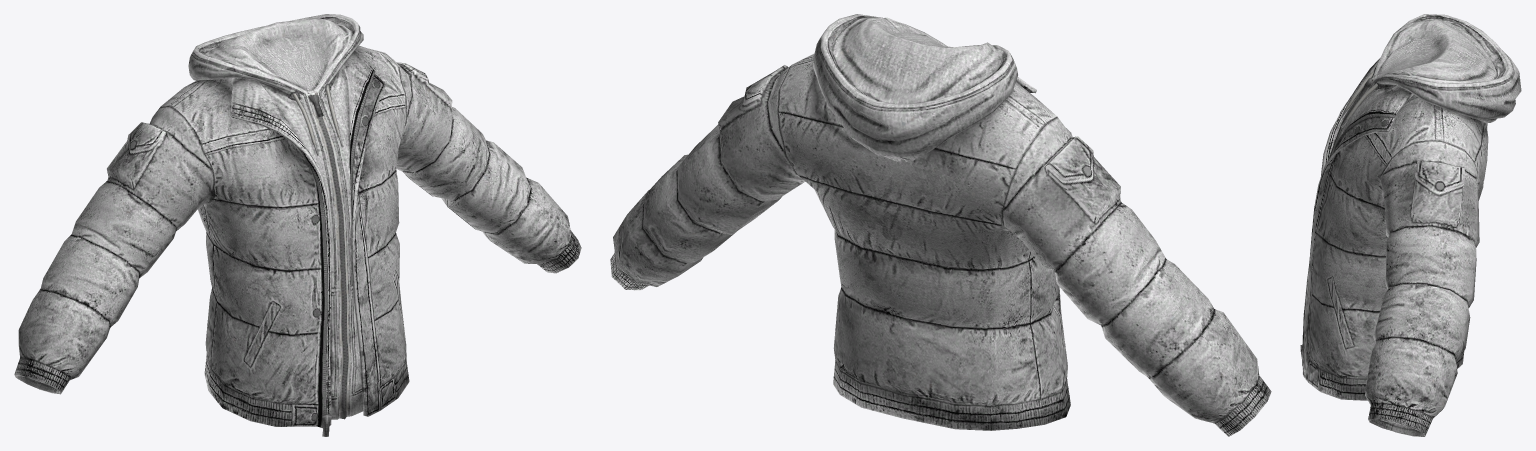
The model's file is SurvivorMale_Chest_Jacket_Puffy_LOD0.glb.
3 views of the same model, side by side, from view 1: azimuth 30°, elevation 25°; view 2: azimuth 150°, elevation 25°; view 3: azimuth 270°, elevation 25° (orthographic). The views are drawn at different scales.
Visible parts, largest first — view 1: Hoodie; view 2: Hoodie; view 3: Hoodie.
Boxes of the visible parts, x1,y1,x2,y2 form: Hoodie: (14,14,581,436); Hoodie: (610,14,1271,436); Hoodie: (1300,14,1521,436).
Size of the model in its own units: 1.15 by 0.6953 by 0.4144.
1 material, 1 textured.
